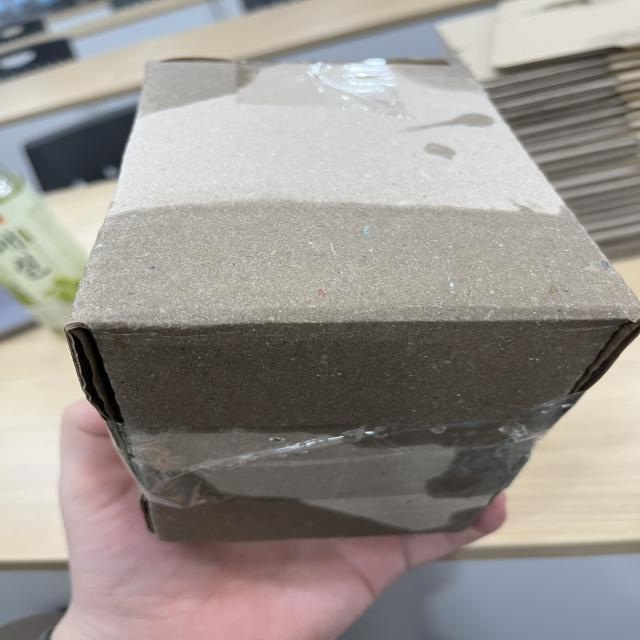wet: (67, 203, 618, 539), (134, 55, 255, 119), (387, 52, 489, 94)
